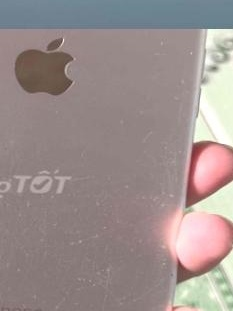scratch: (0, 210, 145, 311), (120, 123, 181, 237), (112, 29, 185, 109)
